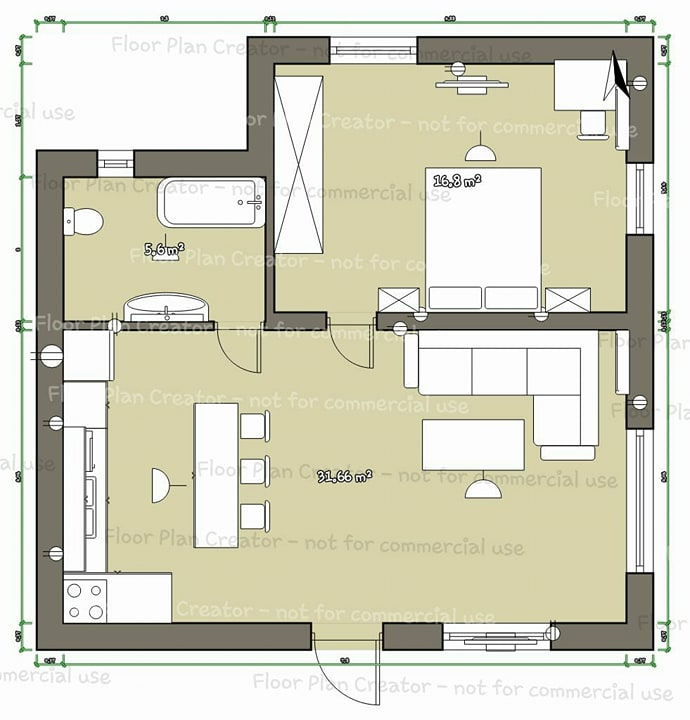door: (308, 653, 389, 711), (213, 332, 269, 381), (326, 330, 382, 379)
wall: (38, 624, 311, 652), (37, 150, 64, 332), (627, 235, 655, 389), (135, 150, 274, 177), (247, 39, 274, 176), (555, 623, 655, 652)
window: (628, 430, 653, 573), (329, 37, 417, 66), (627, 162, 652, 235), (97, 150, 135, 178)
